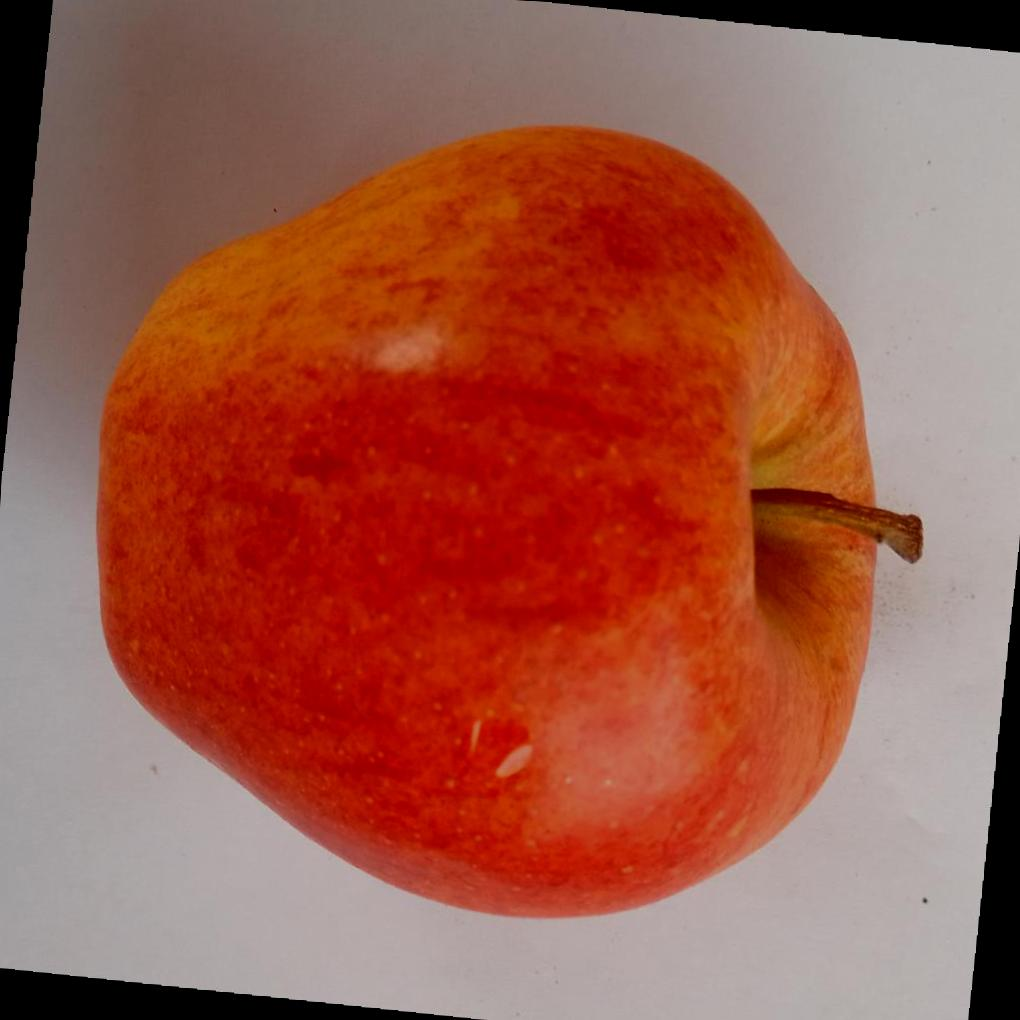FreshGuava: (94, 124, 924, 924)
